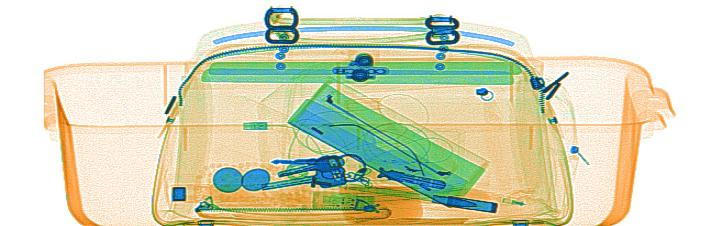USBFlashDisk: (312, 188, 378, 214)
